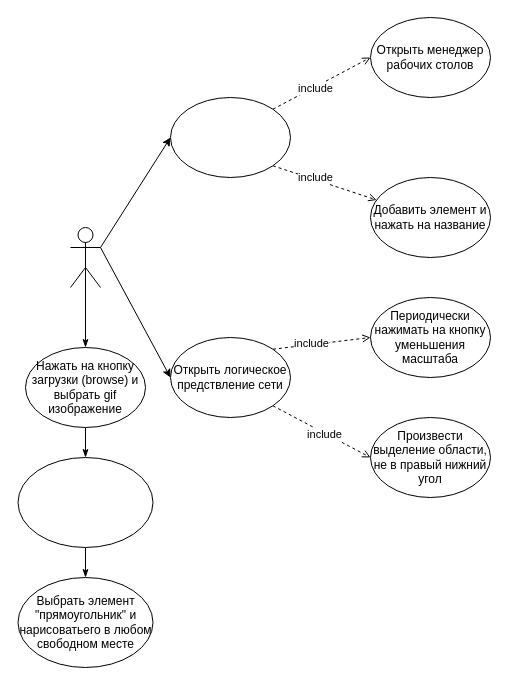
Image size: 508x685. Some labels were removed from this diagram. The shapes that lost their labels are listed below. From the top down, each one's centre as x and y in pixels, then its label:
At point (230, 137): "Открыть приложение на весь экран".
At point (85, 257): "Пользователь".
At point (85, 502): "Нажать на кнопку установки заднего фона, затем на кнопку Reset и закрыть окно".
